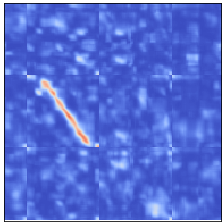action_path: (23, 75, 98, 149)
